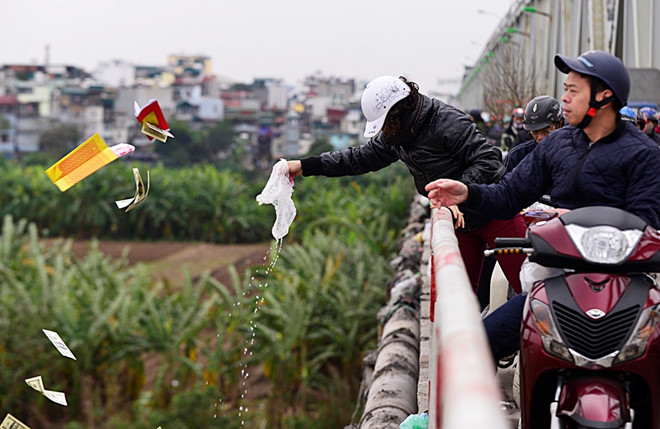plastic bag: (255, 157, 297, 240)
